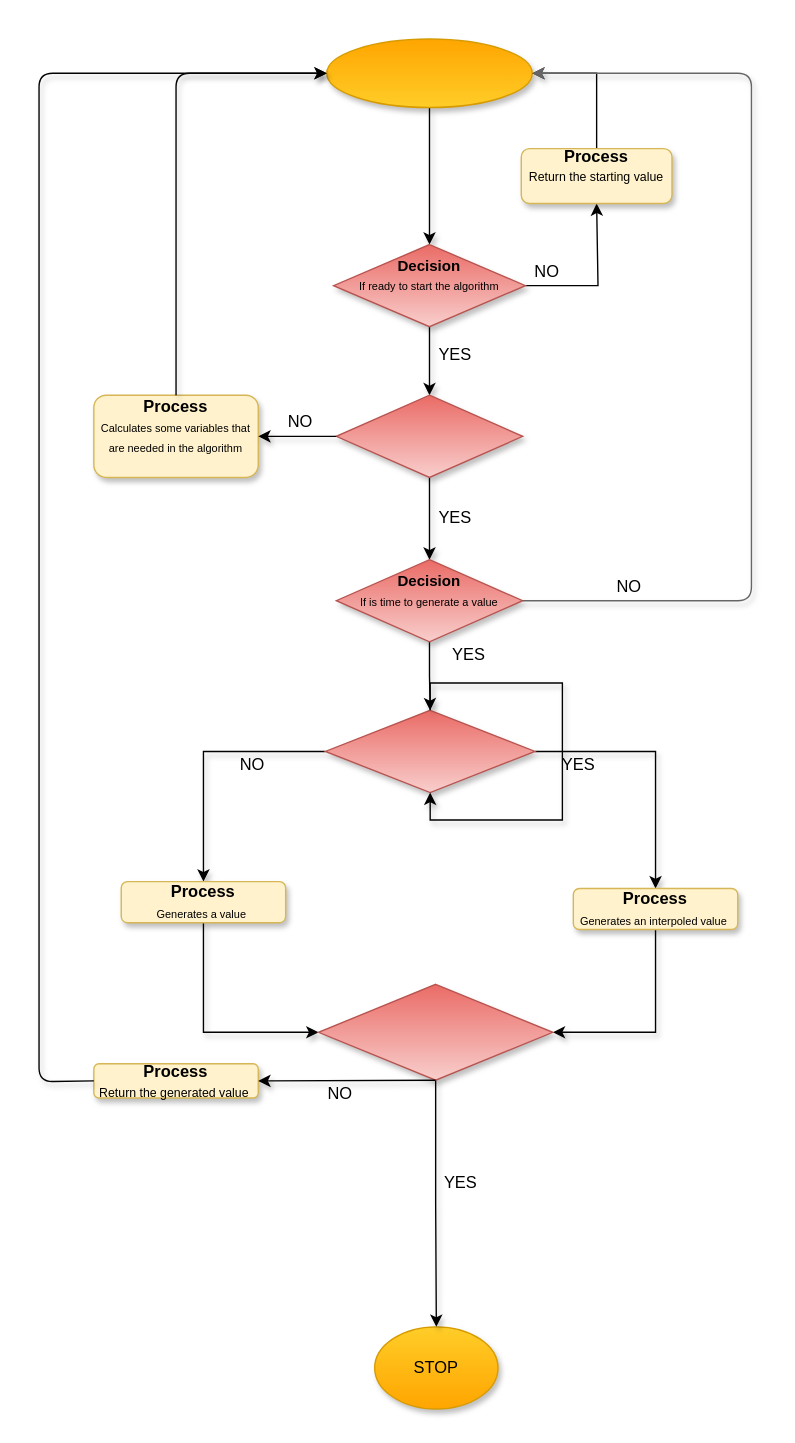
This 795x1443 diagram has some shape labels left out. Here are the shapes that lost their labels. From the top down, the centre of each, then its label:
point (430, 74): START Call the function with the right parametters
point (430, 437): Decision If is ready to generate a value
point (431, 752): Decision If it needs to generate a n interpolated value
point (436, 1033): Decision If the generated value is higher then the wanted value
